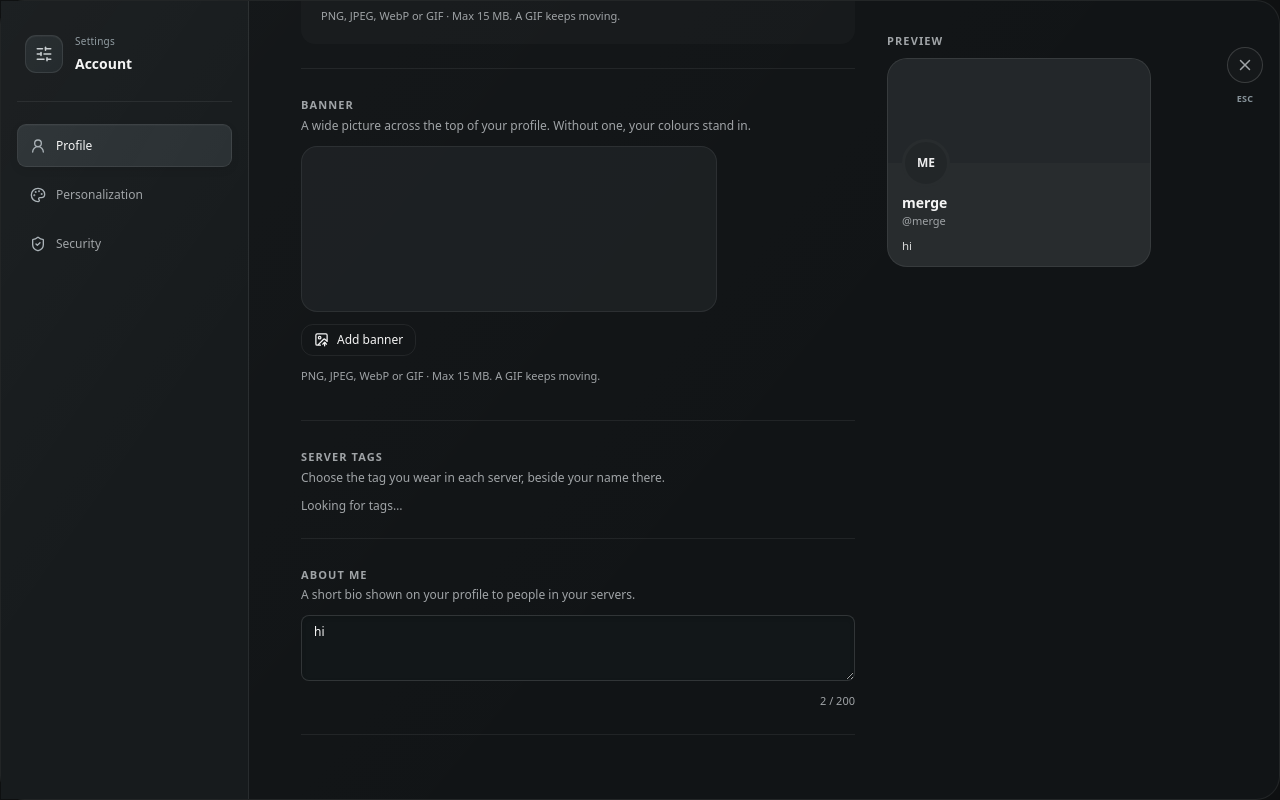
AccountDialog › keeps a change pending across sections, and marks where it is
(page scrolled)
Replace the text in the text box named "Bio" with "new words" at (578, 648), box [301,615,855,681]
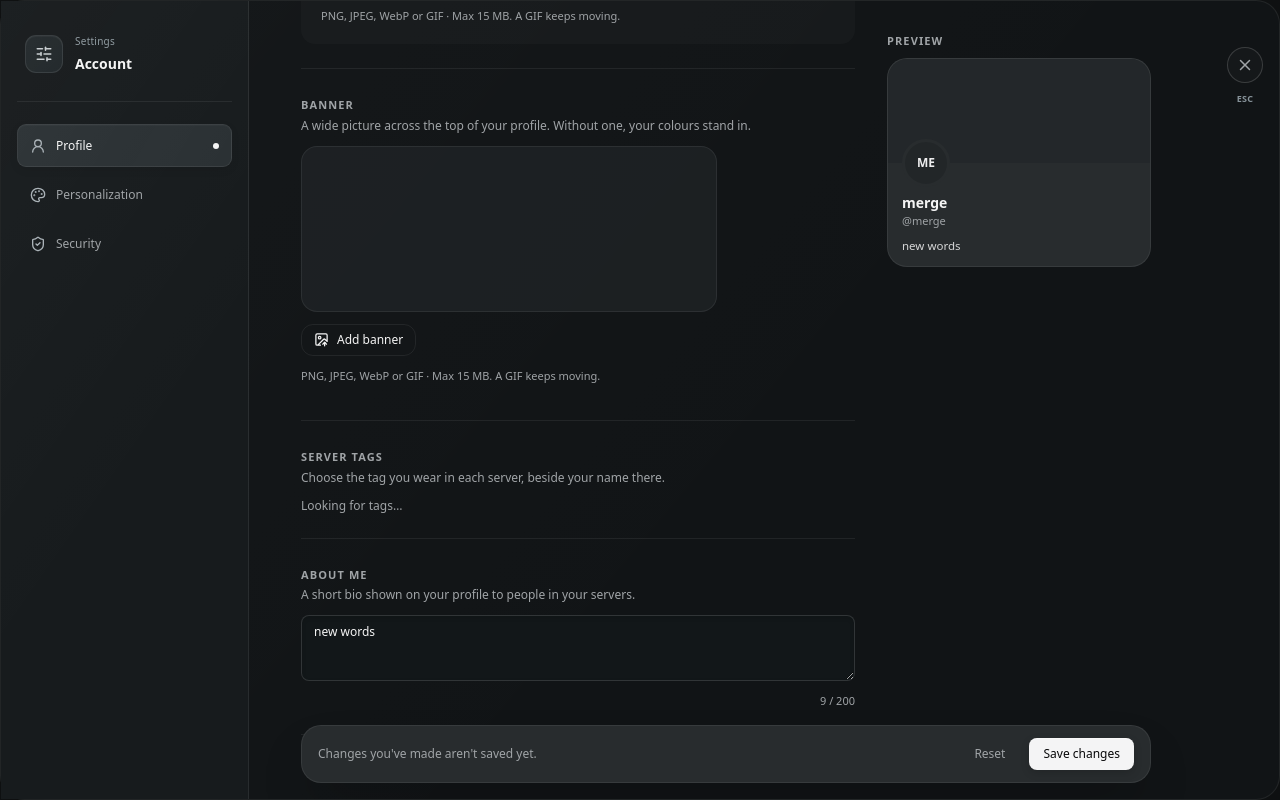
expect the element named "Unsaved changes" is shown: met, box [301,725,1151,783]
Click the button "Security".
click(124, 244)  # box [17,222,232,265]
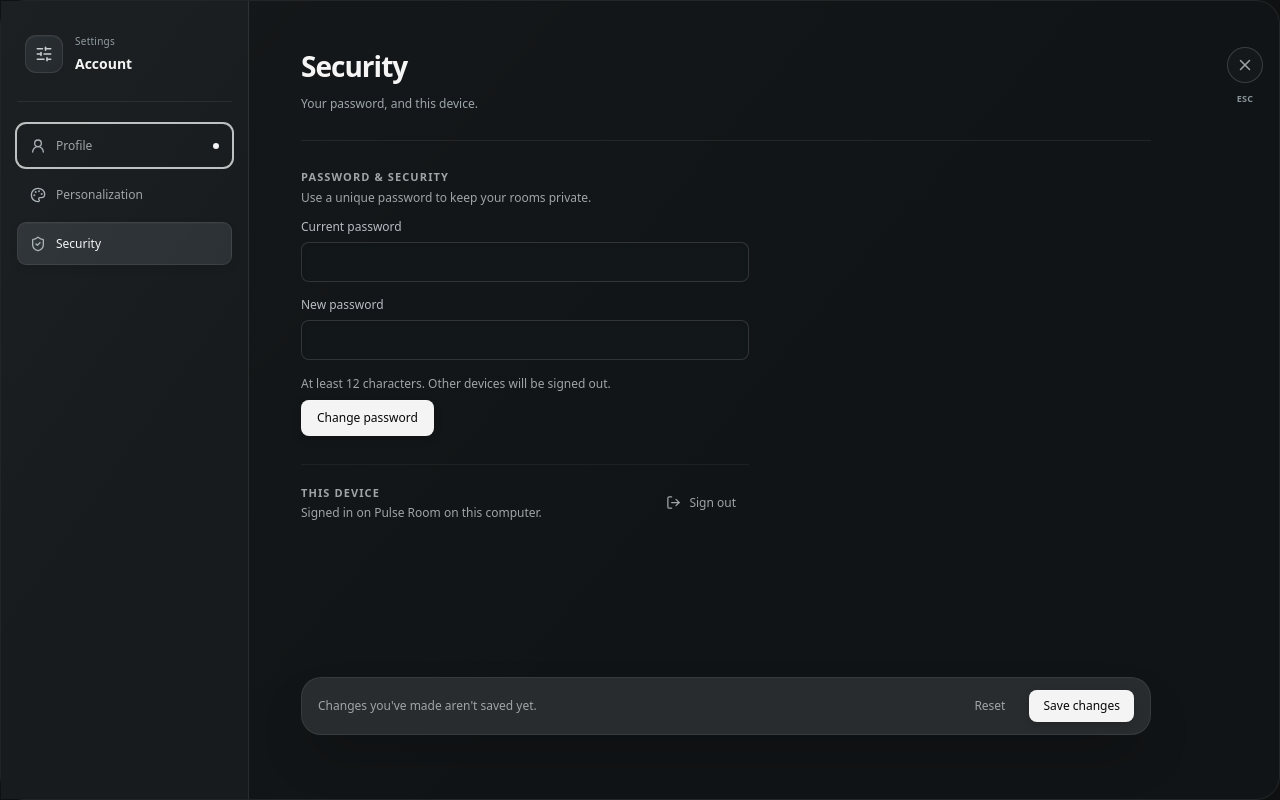
expect the element named "Unsaved changes" is shown: met, box [301,677,1151,735]
Click the button "Profile".
click(124, 146)  # box [17,124,232,167]
(page scrolled)
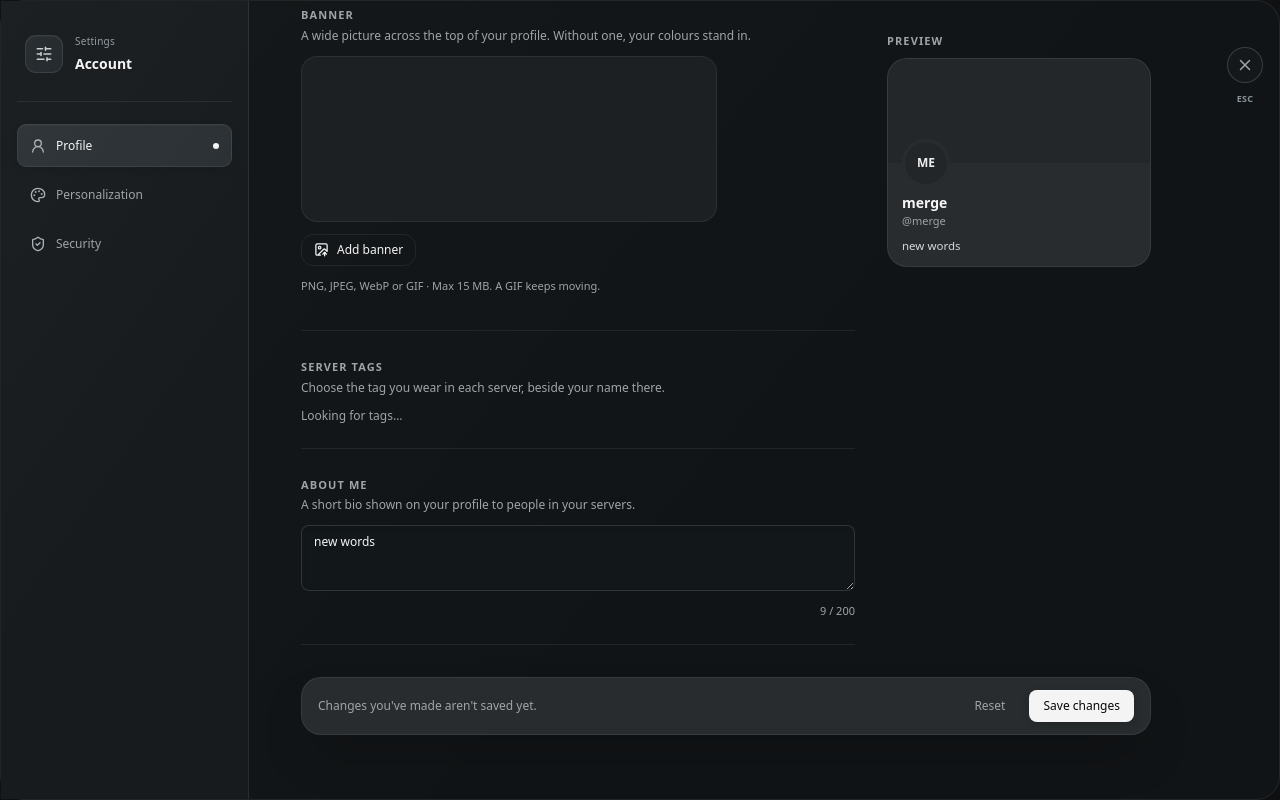
expect the text box named "Bio" holds "new words": met, box [301,525,855,591]
